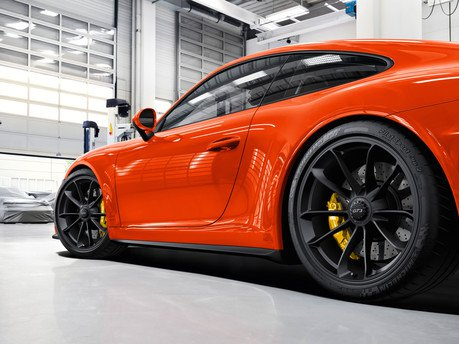car: (50, 39, 458, 306)
